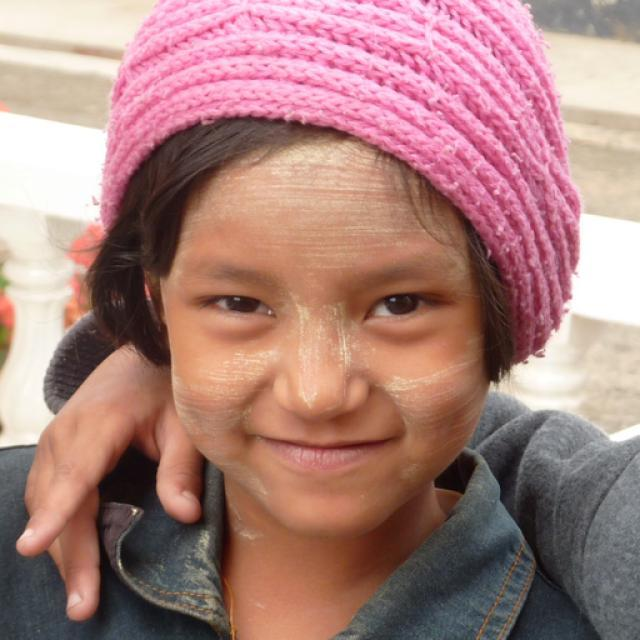happy: (164, 142, 486, 536)
